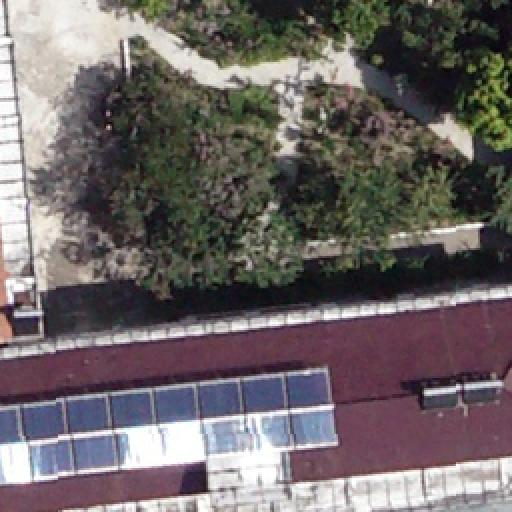solar-panel: (0, 369, 336, 479)
